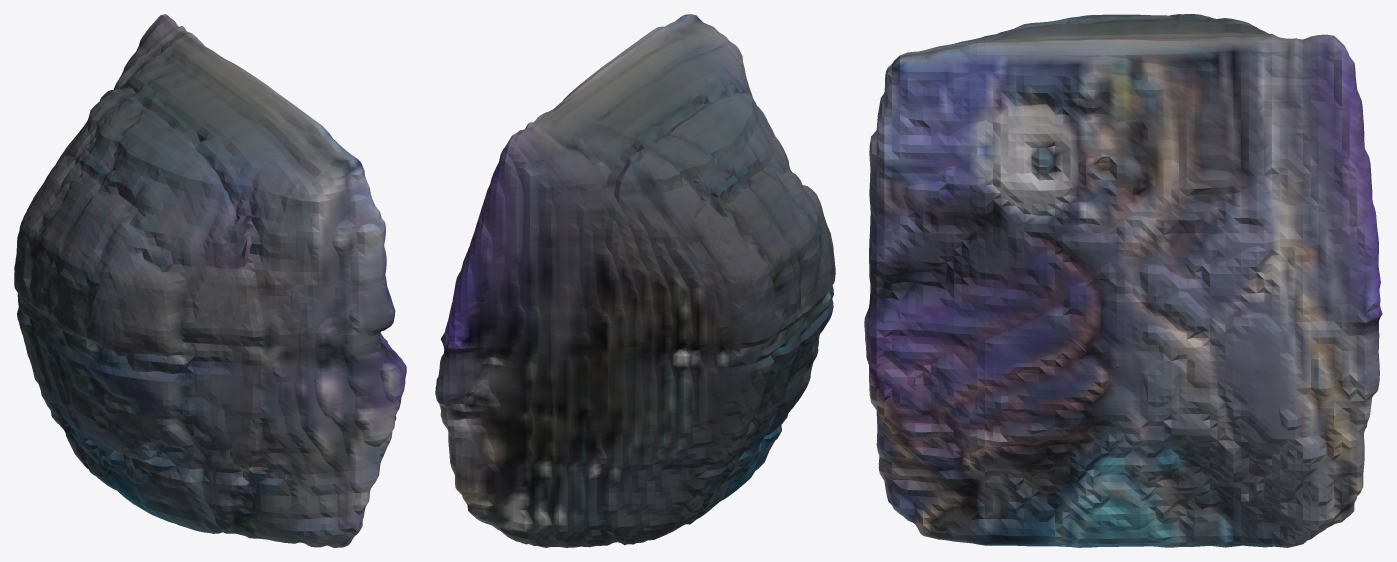
File: leader-eagle-councillor.glb
3 views of the same model, side by side, from view 1: azimuth 30°, elevation 25°; view 2: azimuth 150°, elevation 25°; view 3: azimuth 270°, elevation 25° (orthographic). The views are drawn at different scales.
Visible parts, largest first — view 1: world; view 2: world; view 3: world.
Part boxes in pixels (x1,y1,x2,y2): world: [14, 14, 406, 547]; world: [435, 14, 835, 547]; world: [864, 14, 1382, 547].
Bounding box in the file's own units: 0.669 × 0.9801 × 0.9159.
